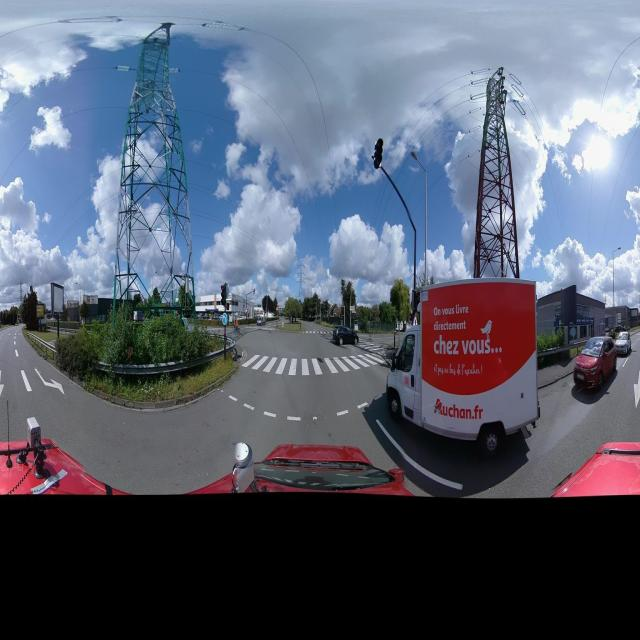bike: (233, 326, 240, 334)
car: (572, 335, 618, 393), (332, 324, 359, 346), (613, 325, 632, 356), (257, 316, 266, 326)
